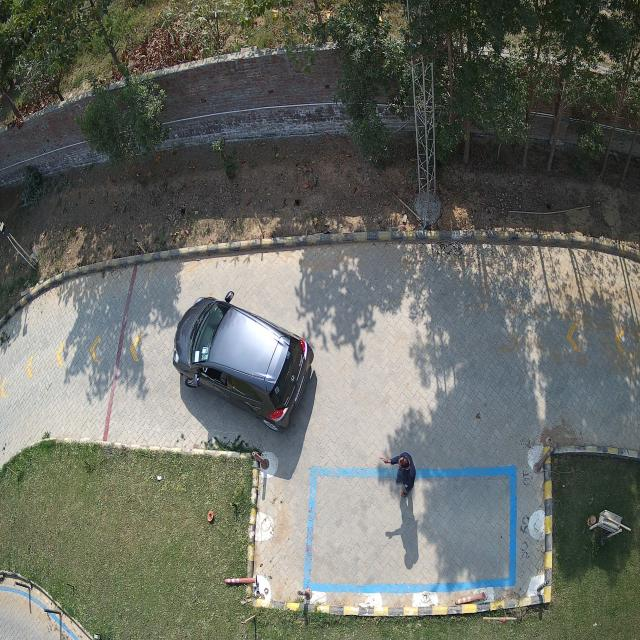car: (172, 293, 314, 430)
